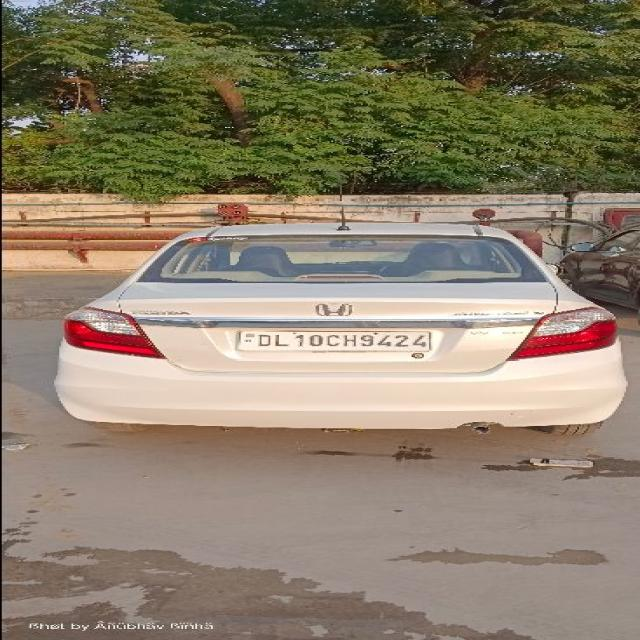license_plate: (233, 329, 432, 352)
